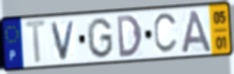A: (180, 9, 214, 55)
C: (153, 11, 180, 56)
D: (115, 14, 144, 60)
G: (86, 17, 115, 61)
T: (23, 19, 50, 67)
V: (49, 19, 78, 62)
